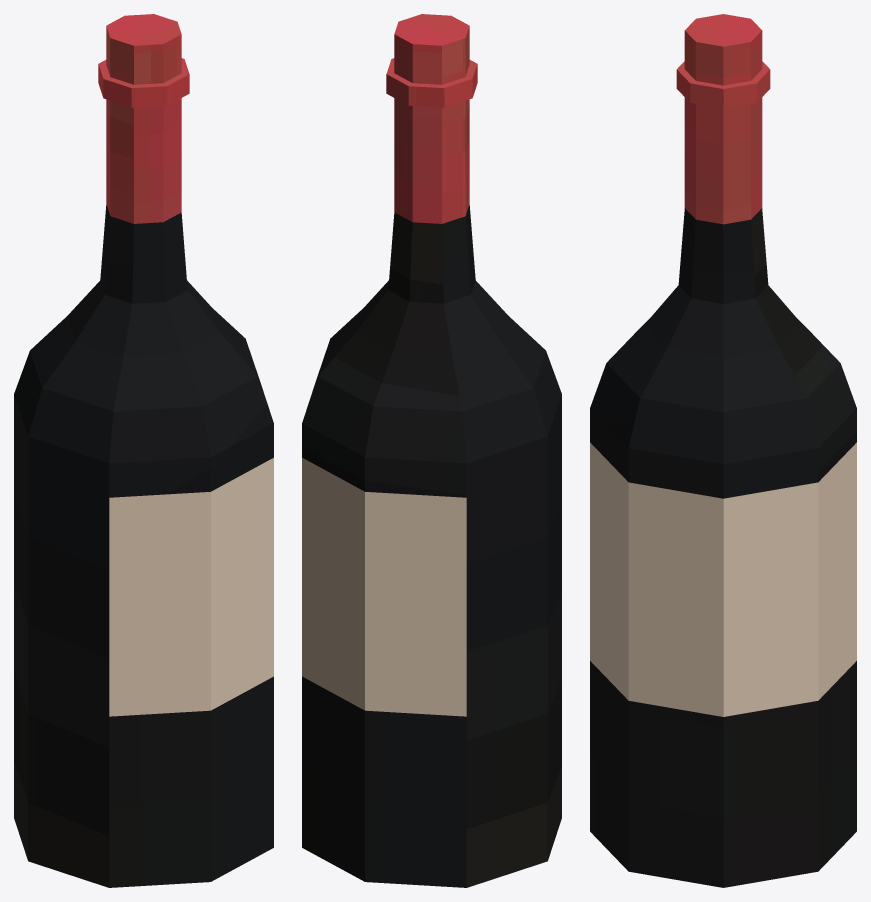
The model's file is glass.obj.
3 renders of one model, left to right at view 1: azimuth 30°, elevation 25°; view 2: azimuth 150°, elevation 25°; view 3: azimuth 270°, elevation 25°, orthographic.
Visible parts, largest first — view 1: Cube.007_Cube.005; view 2: Cube.007_Cube.005; view 3: Cube.007_Cube.005.
Part boxes in pixels (box(x1,y1,x2,y2)): Cube.007_Cube.005: box(14, 14, 273, 887); Cube.007_Cube.005: box(302, 14, 561, 887); Cube.007_Cube.005: box(590, 14, 856, 887).
Bounding box in the file's own units: 1.27 × 4.2 × 1.27.
1 material, 1 textured.
